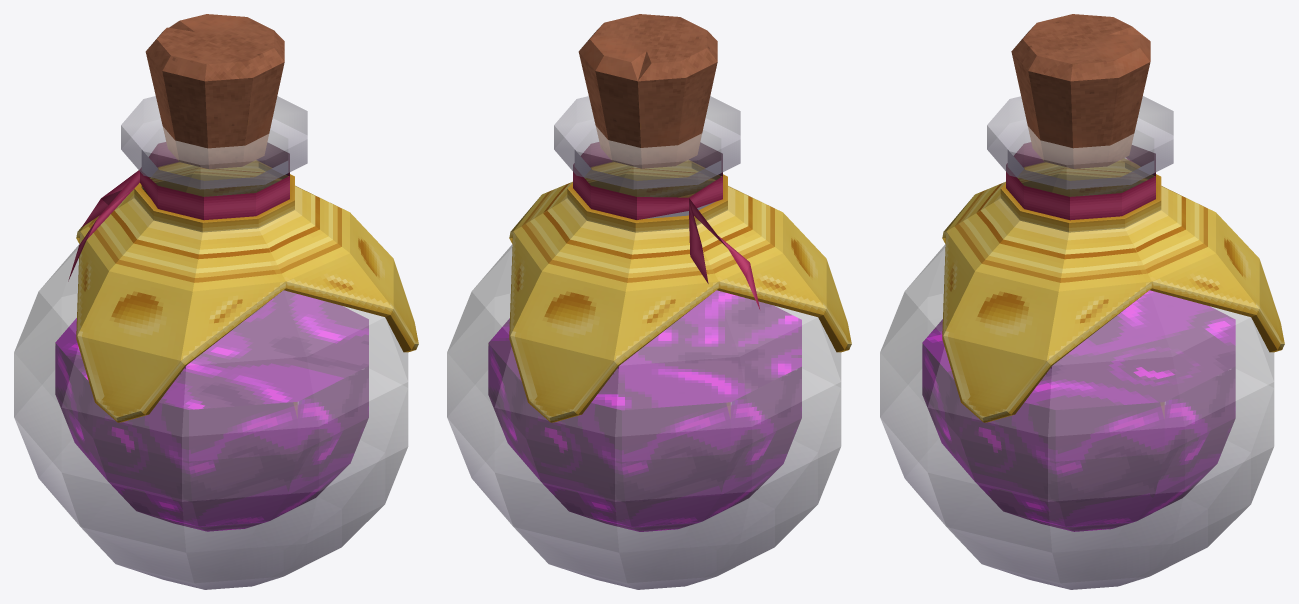
Rendered from mysterious_potion.glb.
3 views of the same model, side by side, from view 1: azimuth 30°, elevation 25°; view 2: azimuth 150°, elevation 25°; view 3: azimuth 270°, elevation 25° (orthographic).
Parts seen in each view (by area): view 1: Potion_Obj; view 2: Potion_Obj; view 3: Potion_Obj.
Part boxes in pixels (bbox=[...]): Potion_Obj: bbox=[14, 14, 418, 589]; Potion_Obj: bbox=[447, 14, 851, 589]; Potion_Obj: bbox=[880, 14, 1284, 589].
Bounding box in the file's own units: 0.161 × 0.2365 × 0.1628.
1 material, 1 textured.
